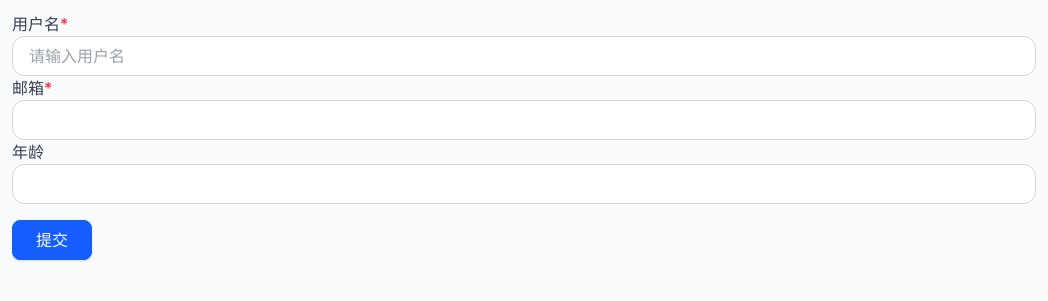
Scenario: Form Component › 表单验证测试 › 应该显示数字范围错误
Type "15" into the number field labelled "年龄" at coordinates (524, 184), box [12,164,1036,204]
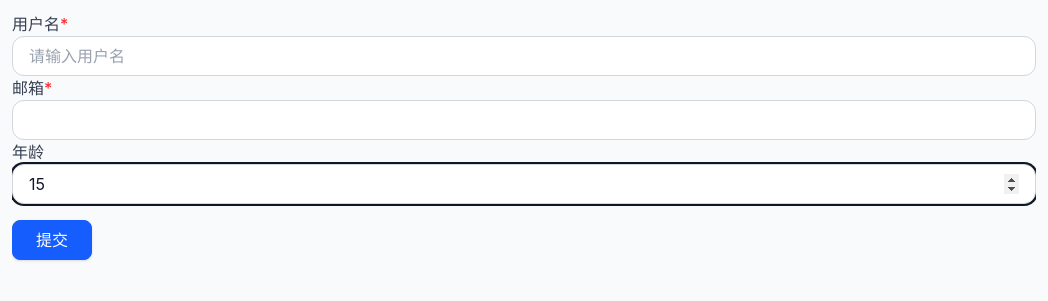
Press Tab
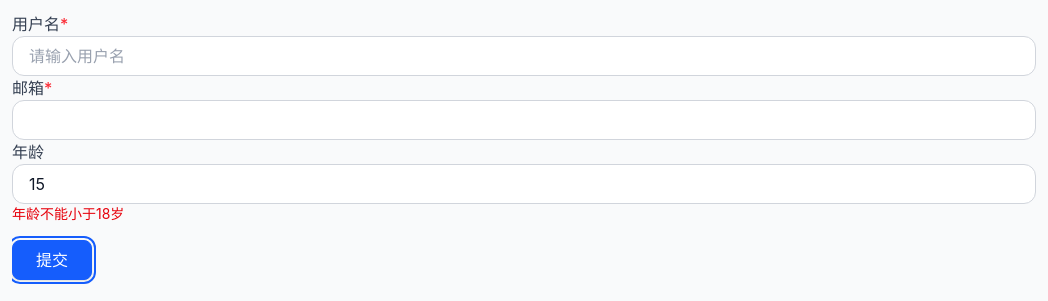
Check: the text "年龄不能小于18岁" is shown, box [12,205,124,222]
